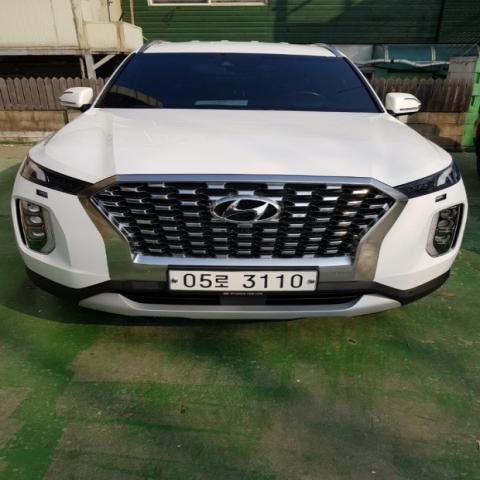LP: (157, 257, 320, 300)
